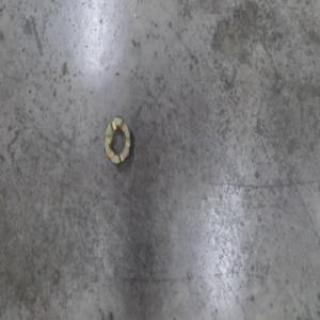Nuttrack_idkeyframe: (101, 113, 132, 167)
